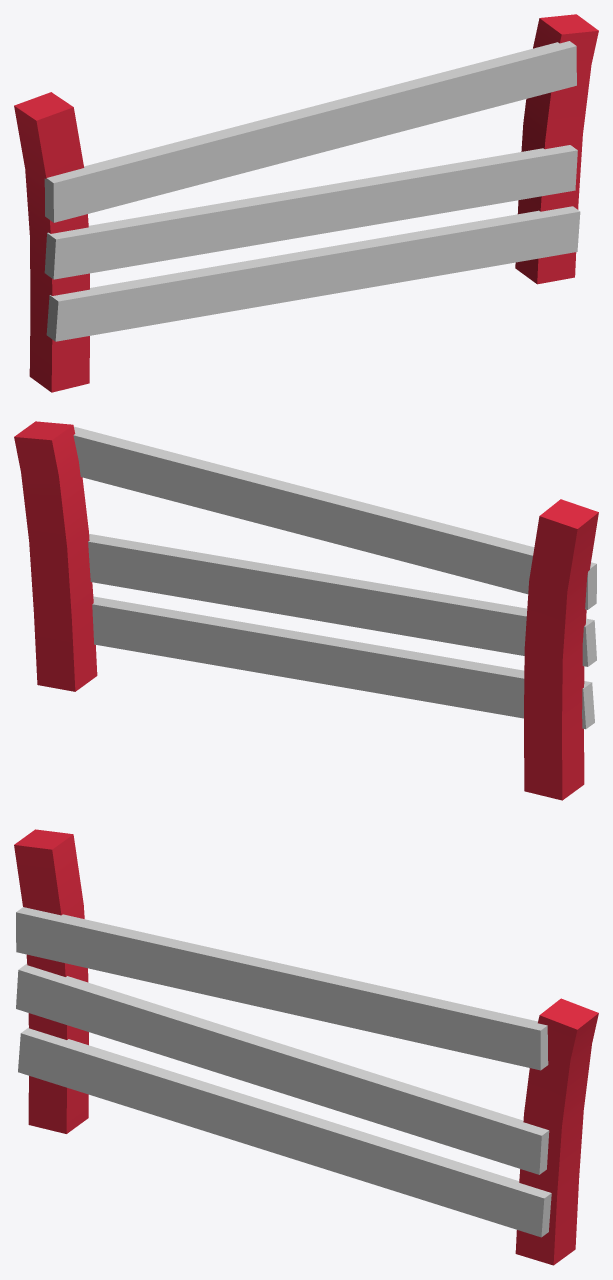
Rendered from fece01.fbx.
The picture shows the model from 3 angles, top to bottom: view 1: azimuth 30°, elevation 25°; view 2: azimuth 150°, elevation 25°; view 3: azimuth 330°, elevation 25°; orthographic projection.
Visible parts, largest first — view 1: Fence01; view 2: Fence01; view 3: Fence01.
Part boxes in pixels (x1,y1,x2,y2): Fence01: (14, 14, 598, 392); Fence01: (14, 421, 598, 800); Fence01: (14, 829, 598, 1265).
Size of the model in its own units: 306 by 152 by 28.18.
